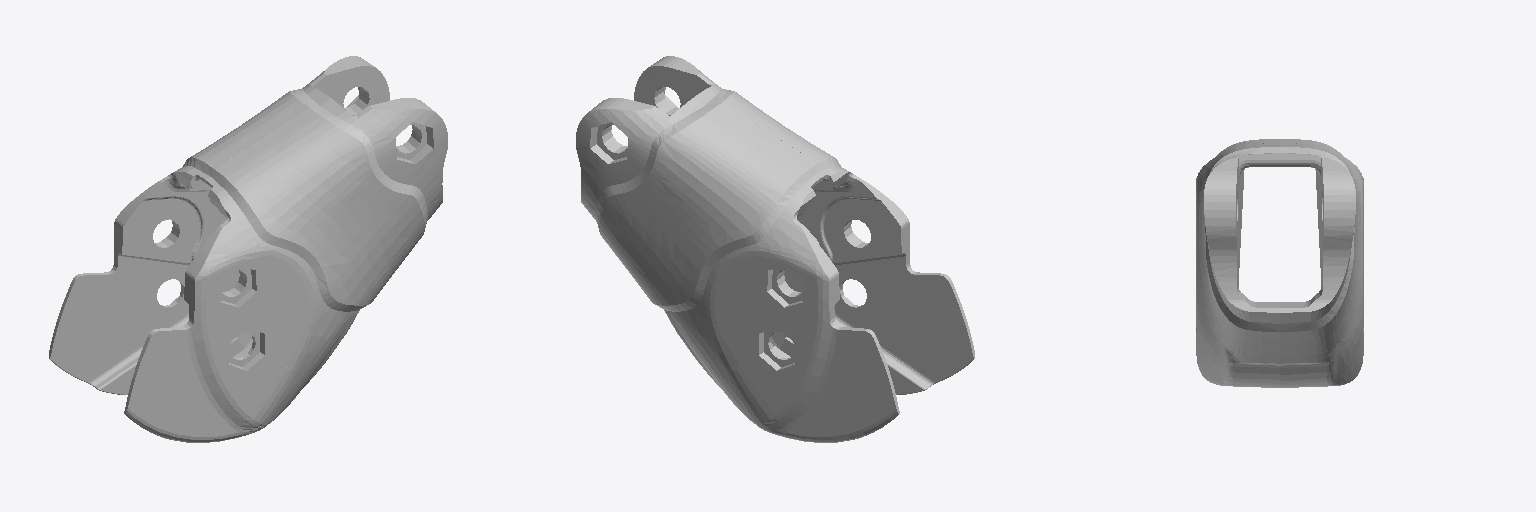
3 views of the same model, side by side, from view 1: azimuth 30°, elevation 25°; view 2: azimuth 150°, elevation 25°; view 3: azimuth 270°, elevation 25° (orthographic).
Parts seen in each view (by area): view 1: Link13_R; view 2: Link13_R; view 3: Link13_R.
Part boxes in pixels (left/top/right/bottom): Link13_R: left=49, top=56, right=447, bottom=442; Link13_R: left=576, top=56, right=974, bottom=442; Link13_R: left=1196, top=139, right=1363, bottom=387.
Size of the model in its own units: 0.0378 by 0.0306 by 0.0162.